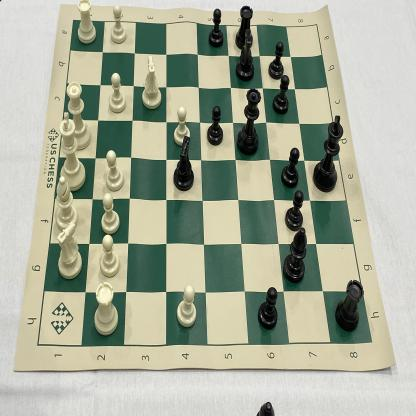black-king: (312, 111, 344, 195)
black-knight: (281, 226, 312, 285)
black-pawn: (253, 284, 280, 330), (282, 187, 305, 233), (280, 145, 301, 190), (206, 101, 226, 146), (272, 74, 292, 116), (207, 6, 226, 50), (266, 40, 286, 81)
black-queen: (236, 85, 262, 160)
black-rook: (333, 276, 365, 333), (234, 2, 255, 51)
white-bishop: (51, 173, 79, 231)
white-king: (56, 110, 88, 193)
white-knight: (53, 220, 83, 281), (171, 135, 196, 192), (139, 53, 164, 110), (234, 27, 256, 82)
white-pawn: (174, 281, 198, 329), (97, 233, 121, 278), (99, 192, 121, 235), (103, 150, 124, 193), (107, 71, 127, 115), (109, 3, 129, 44), (172, 104, 191, 147)
white-queen: (64, 79, 92, 151)
white-rook: (91, 279, 120, 338), (74, 0, 97, 44)
